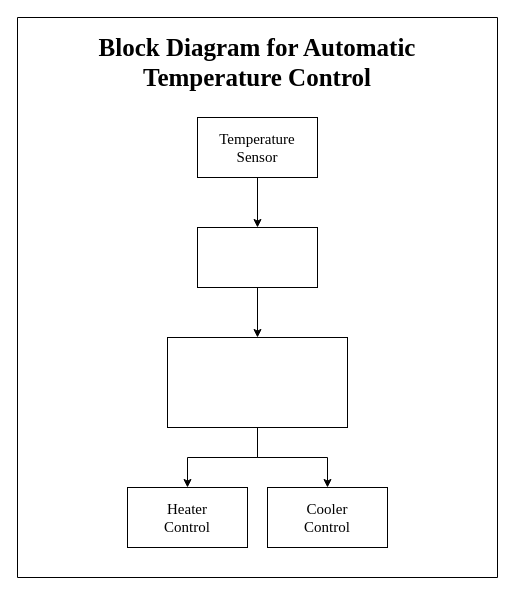
Some shapes in this 516 by 596 pixel diagram are drawn without their labels. The centre of each missing label's shape, as x and y in pixels:
Temperature Comparator: the point at 257,257
Temperature Controller ( FSM : IDLE , HEATING, COOLING ): the point at 257,382
